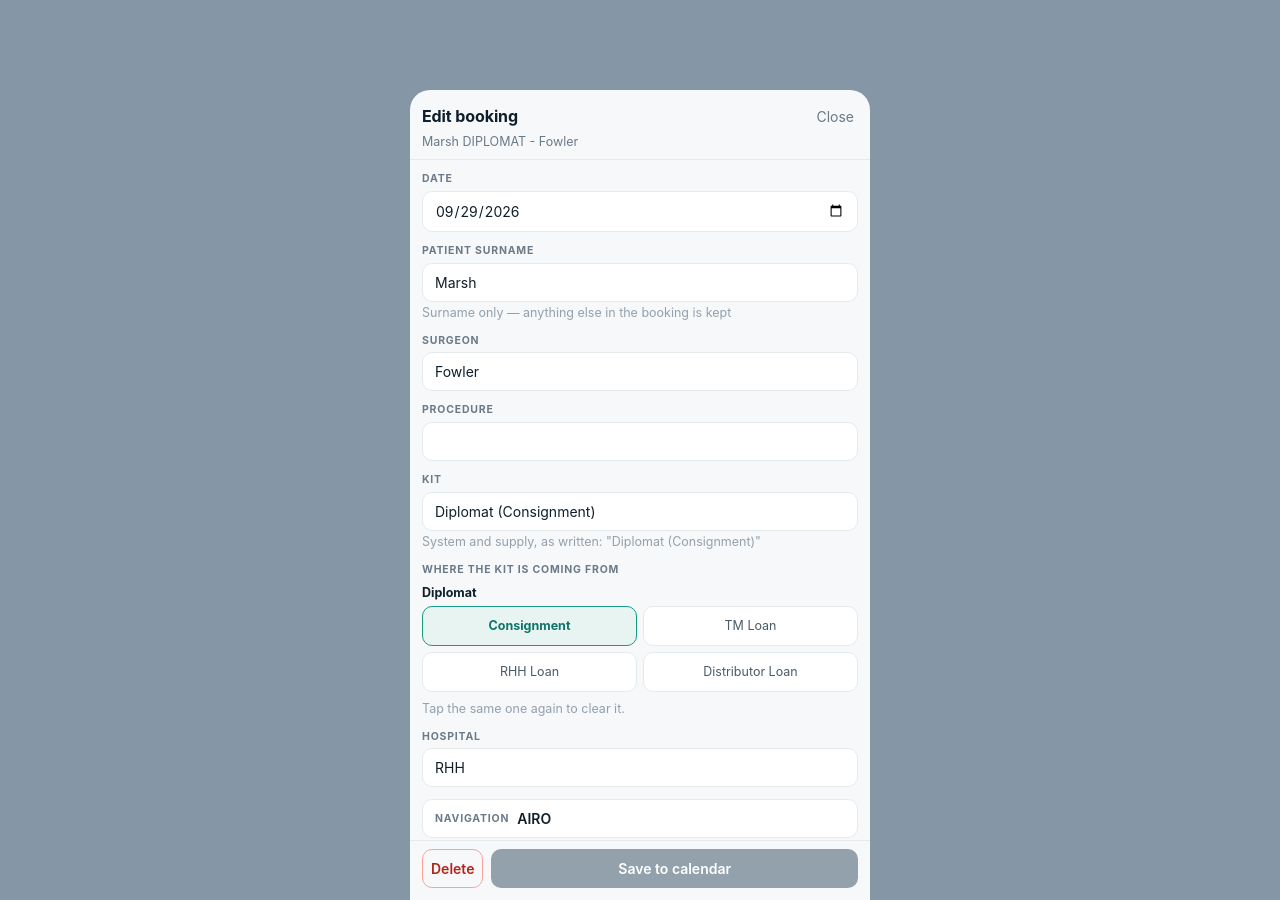
Test: moving a booking onto a day whose kit is spoken for › warns as soon as it is moved onto the committed day
This screenshot has width=1280, height=900.
Expected: the field showing "Marsh" is shown, [422,262,858,302]
Type "2026-10-02" into the date field showing "2026-09-29".
click(640, 211); type("2026-10-02")  # box [422,191,858,232]
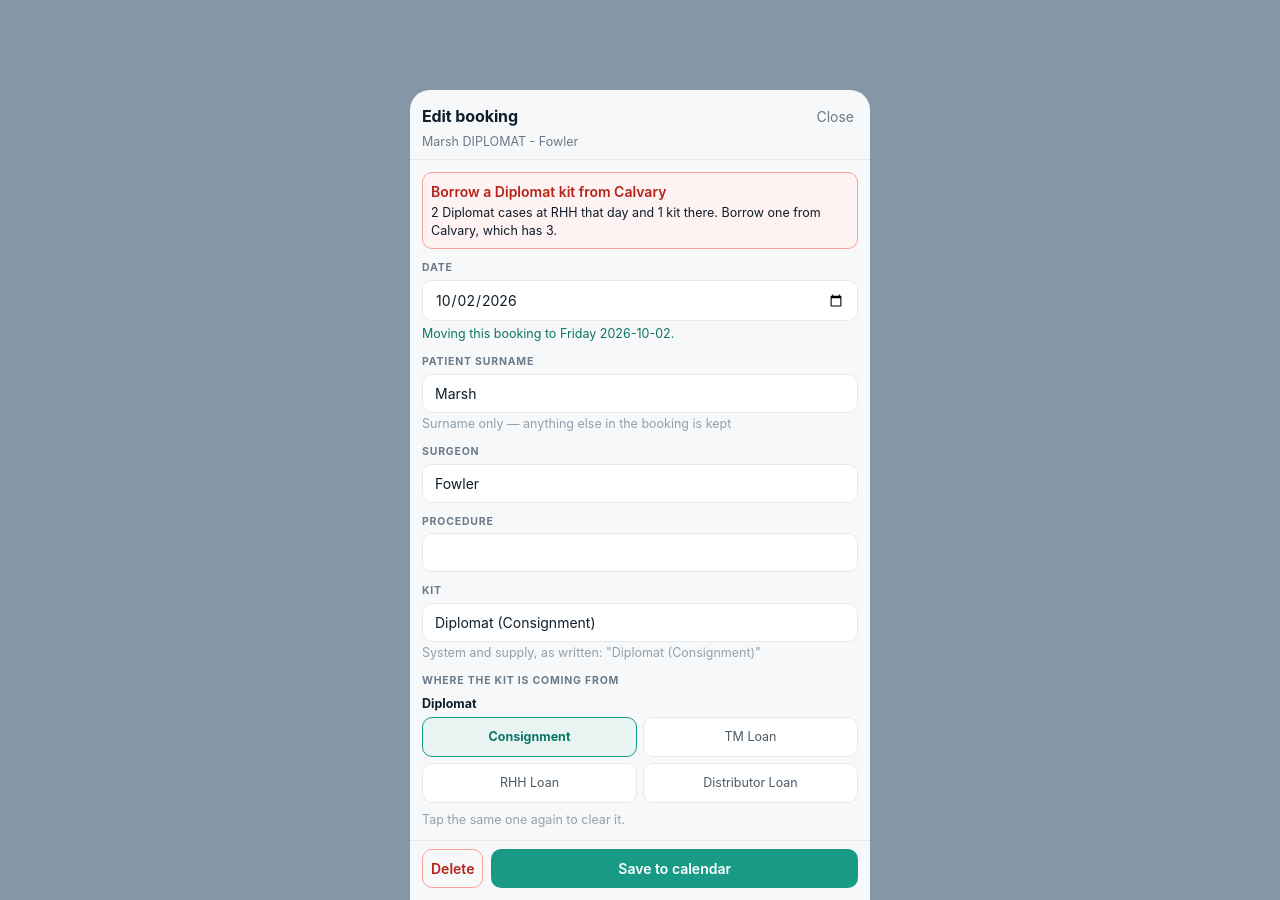
Result: the text "Borrow a Diplomat kit from Calvary" is shown at [431,183,666,200]
